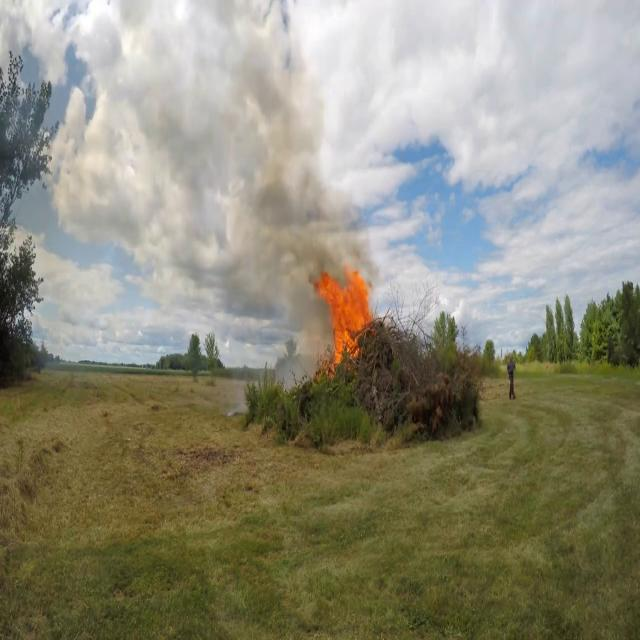Fire: (310, 266, 382, 374)
Smoke: (209, 7, 367, 299)
